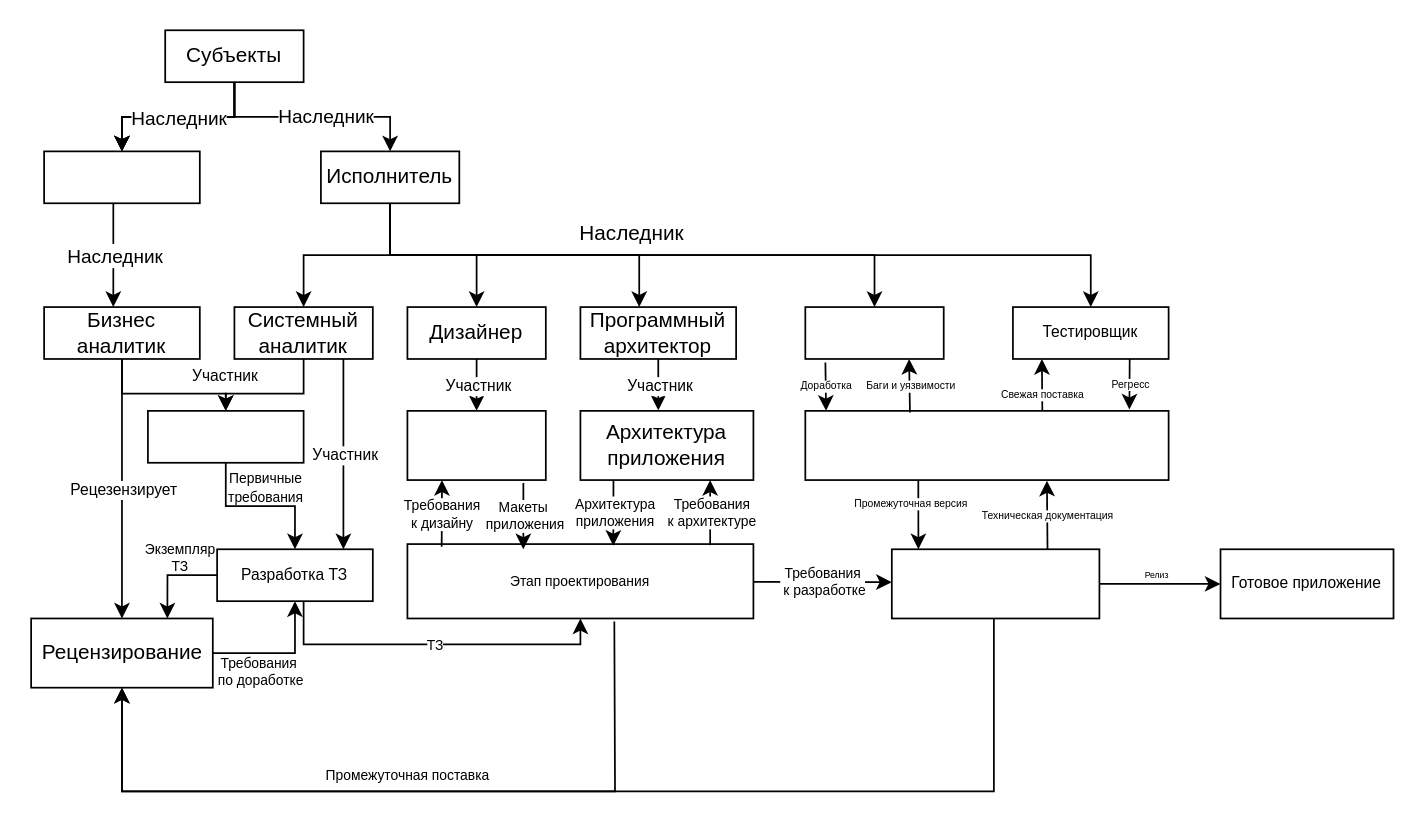
Image size: 1424x836. Some labels were removed from this diagram. Here are the shapes that lost their labels. From the top down, the box of each, then its label:
(42, 150, 200, 203): Заказчик
(804, 305, 944, 359): Программист
(146, 409, 304, 463): *Выработка требований
(406, 409, 546, 480): Дизайн приложения
(804, 409, 1169, 480): Приложение
(890, 548, 1099, 618): Этап разработки
